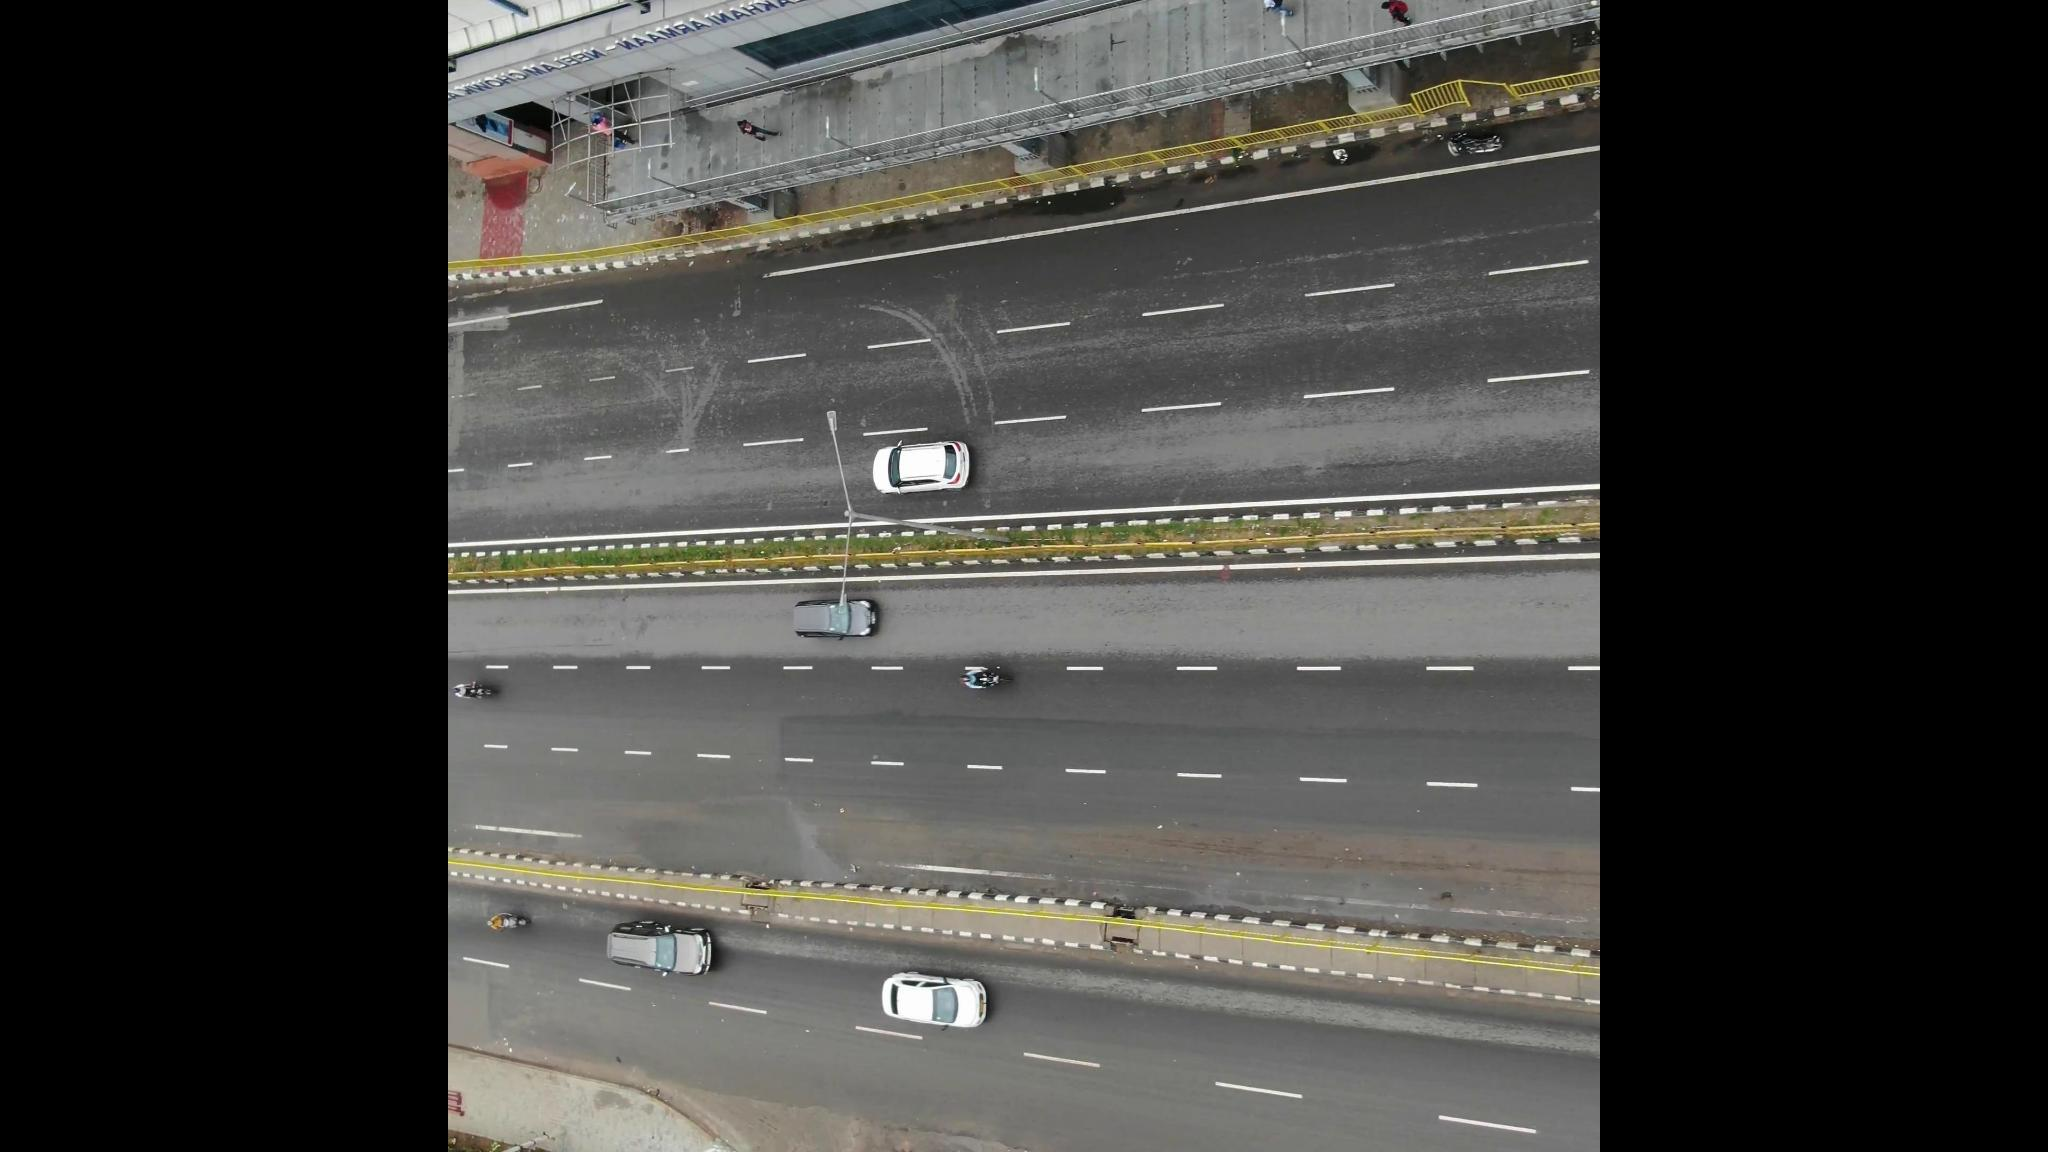Muddy_road: (1180, 821, 1542, 913)
